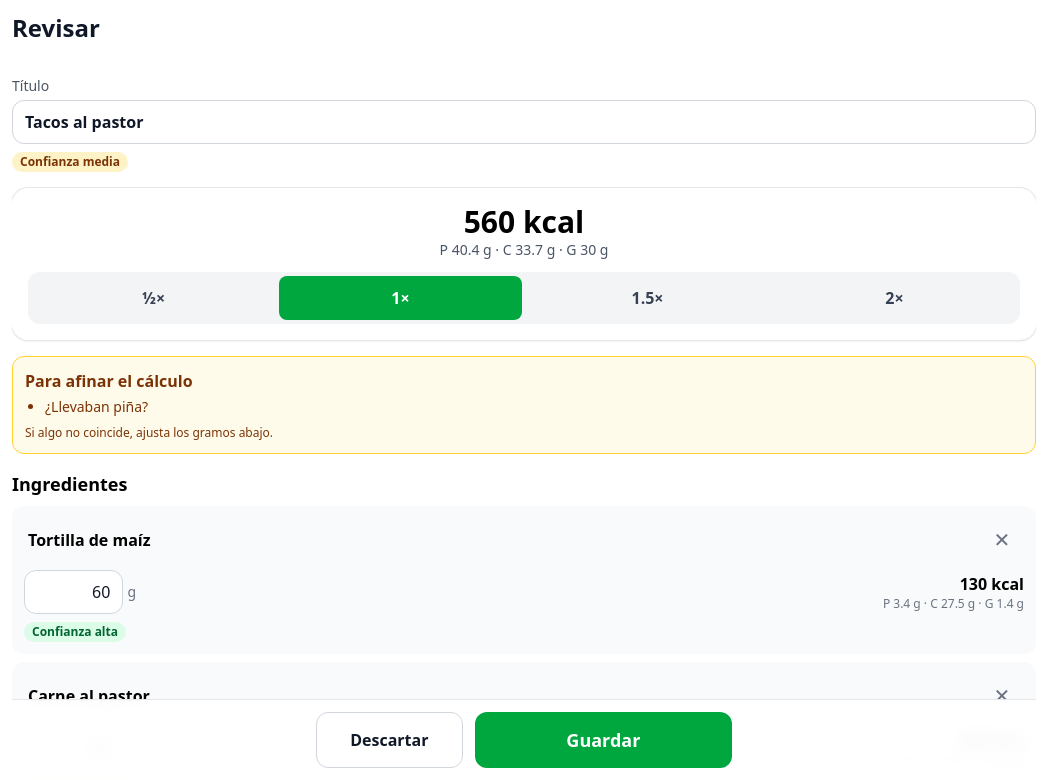
Test: Revisar › el multiplicador y los gramos actualizan los totales en vivo
Earlier steps of the test are not shown.
expect the text with test id "review-total-kcal" reads "560 kcal": met, box [464,201,584,242]
Click the button named "Quitar Tortilla de maíz".
click(1002, 540)  # box [980,518,1024,562]
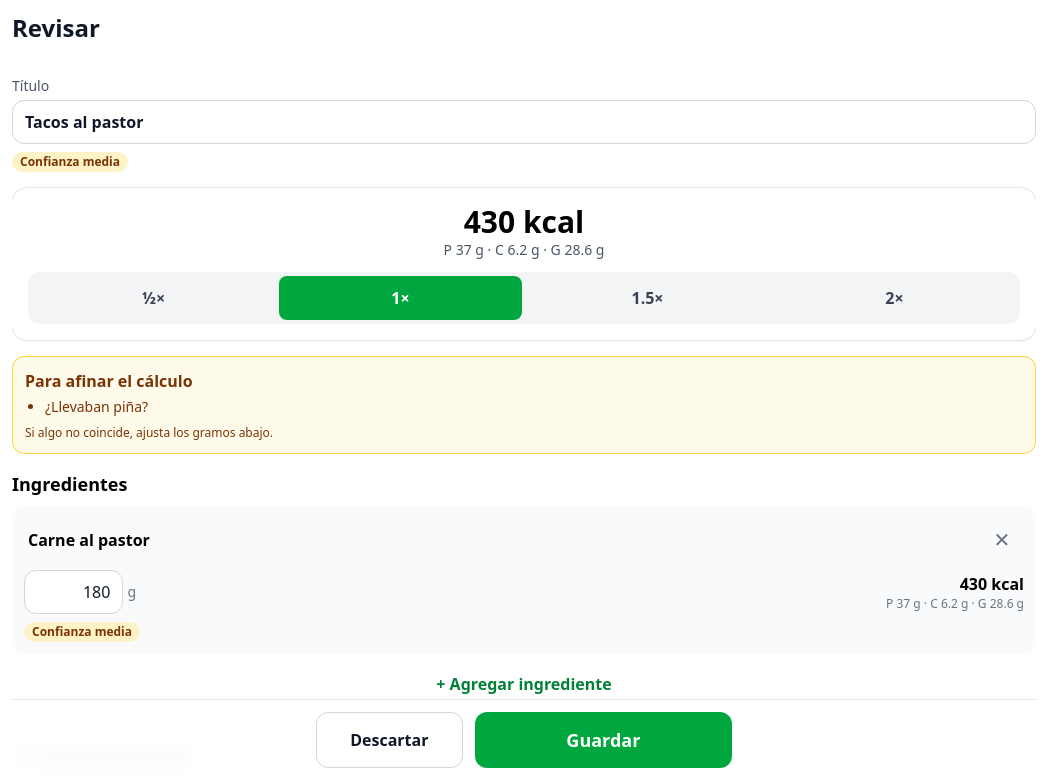
expect the text with test id "review-total-kcal" reads "430 kcal": met, box [464,201,584,242]
